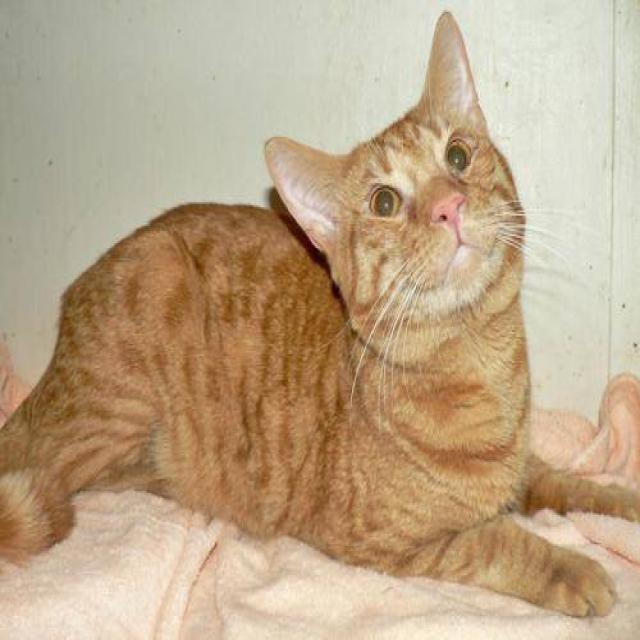cat: (0, 8, 639, 620)
